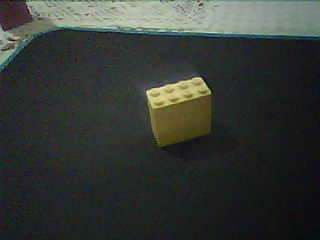lego: (143, 74, 213, 149)
